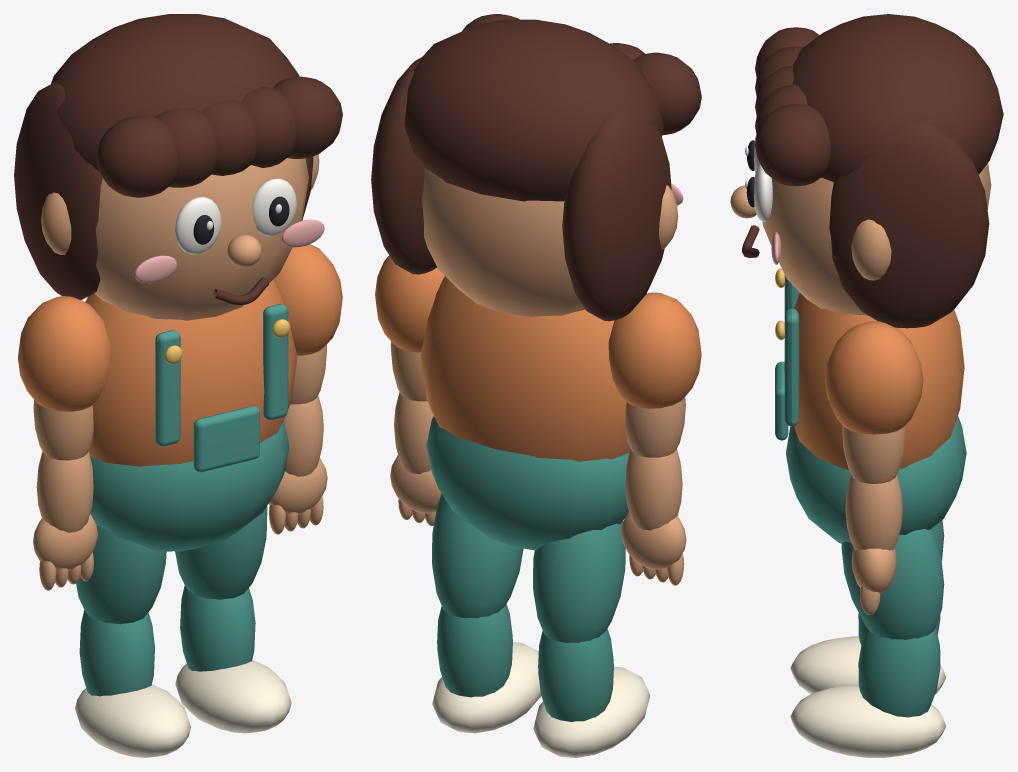
The model's file is ava-jump.glb.
3 views of the same model, side by side, from view 1: azimuth 30°, elevation 25°; view 2: azimuth 150°, elevation 25°; view 3: azimuth 270°, elevation 25° (orthographic).
Visible parts, largest first — view 1: soft shirt, hair cap, clay head, overalls, bob hair, shirt sleeve, little shoe.001, little shoe, trouser leg, fringe, shirt sleeve.001, lower leg.001 (+22 smaller); view 2: hair cap, soft shirt, bob hair, overalls, clay head, trouser leg, shirt sleeve, bob hair.001, trouser leg.001, lower leg, lower leg.001, little shoe (+10 smaller); view 3: bob hair.001, hair cap, soft shirt, shirt sleeve.001, overalls, clay head, little shoe.001, trouser leg.001, lower leg.001, fringe.004, forearm.001, little shoe (+11 smaller).
Boxes of the visible parts, bbox=[...] form: soft shirt: bbox=[85, 280, 296, 466]; hair cap: bbox=[51, 14, 299, 171]; clay head: bbox=[94, 158, 308, 320]; overalls: bbox=[90, 420, 289, 551]; bob hair: bbox=[14, 81, 102, 300]; shirt sleeve: bbox=[18, 296, 110, 411]; little shoe.001: bbox=[175, 660, 291, 733]; little shoe: bbox=[75, 684, 190, 757]; trouser leg: bbox=[76, 525, 166, 624]; fringe: bbox=[96, 115, 177, 197]; shirt sleeve.001: bbox=[273, 244, 342, 355]; lower leg.001: bbox=[180, 585, 255, 671]; hair cap: bbox=[404, 19, 664, 201]; soft shirt: bbox=[421, 276, 630, 461]; bob hair: bbox=[562, 108, 671, 321]; overalls: bbox=[426, 416, 628, 550]; clay head: bbox=[422, 167, 585, 317]; trouser leg: bbox=[533, 521, 625, 642]; shirt sleeve: bbox=[608, 292, 701, 408]; bob hair.001: bbox=[371, 57, 437, 274]; trouser leg.001: bbox=[432, 493, 523, 618]; lower leg: bbox=[538, 628, 613, 721]; lower leg.001: bbox=[437, 604, 512, 697]; little shoe: bbox=[533, 667, 650, 757]; bob hair.001: bbox=[829, 123, 989, 328]; hair cap: bbox=[792, 14, 1003, 182]; soft shirt: bbox=[783, 292, 964, 469]; shirt sleeve.001: bbox=[825, 321, 923, 434]; overalls: bbox=[786, 416, 966, 543]; clay head: bbox=[762, 163, 991, 315]; little shoe.001: bbox=[790, 685, 945, 757]; trouser leg.001: bbox=[841, 528, 944, 639]; lower leg.001: bbox=[858, 627, 940, 717]; fringe.004: bbox=[755, 103, 830, 186]; forearm.001: bbox=[845, 475, 902, 550]; little shoe: bbox=[790, 636, 945, 694].
Size of the model in its own units: 0.87 by 1.86 by 0.665.
